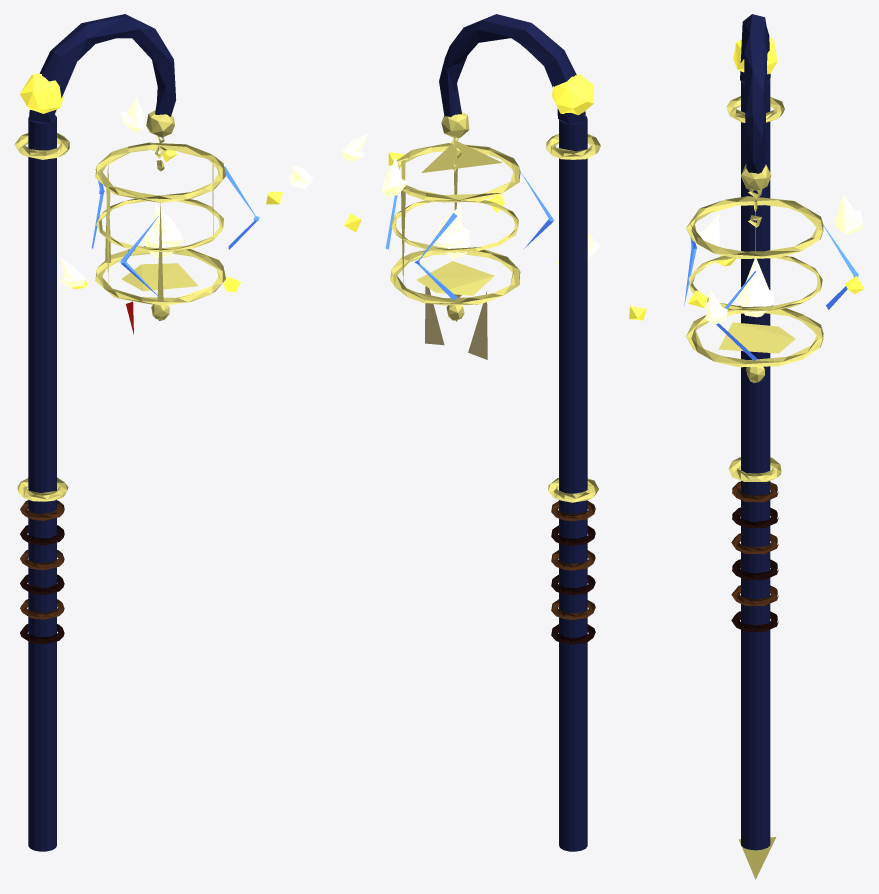
The model's file is lantern_8.glb.
3 views of the same model, side by side, from view 1: azimuth 30°, elevation 25°; view 2: azimuth 150°, elevation 25°; view 3: azimuth 270°, elevation 25° (orthographic). The views are drawn at different scales.
Visible parts, largest first — view 1: Staff__001, Staff__002, Lantern__021, Lantern__022, Lantern__025, Staff__013, Lantern__023, Flame__027, Staff__010, Staff__011; view 2: Staff__001, Staff__002, Lantern__022, Lantern__021, Lantern__025, Staff__013, Lantern__024, Lantern__023, Staff__010, Flame__027, Tags__029, Staff__011 (+3 smaller); view 3: Staff__001, Staff__002, Lantern__021, Lantern__022, Lantern__025, Lantern__023, Flame__027, Orbit__037, Staff__011, Staff__010, Staff__003, Staff__013 (+3 smaller).
Boxes of the visible parts, x1,y1,x2,y2 form: Staff__001: [28, 115, 56, 851]; Staff__002: [29, 14, 176, 122]; Lantern__021: [95, 142, 225, 202]; Lantern__022: [95, 246, 225, 305]; Lantern__025: [121, 263, 198, 291]; Staff__013: [20, 73, 63, 113]; Lantern__023: [96, 198, 223, 252]; Flame__027: [145, 203, 183, 246]; Staff__010: [14, 133, 69, 159]; Staff__011: [17, 477, 68, 501]; Staff__001: [559, 116, 587, 851]; Staff__002: [439, 14, 585, 124]; Lantern__022: [390, 249, 520, 305]; Lantern__021: [396, 143, 520, 202]; Lantern__025: [416, 261, 494, 295]; Staff__013: [552, 74, 593, 115]; Lantern__024: [421, 140, 502, 172]; Lantern__023: [391, 200, 518, 252]; Staff__010: [546, 134, 600, 159]; Flame__027: [432, 203, 471, 247]; Tags__029: [468, 291, 487, 359]; Staff__011: [548, 478, 598, 502]; Staff__001: [741, 78, 770, 850]; Staff__002: [740, 14, 770, 173]; Lantern__021: [686, 196, 823, 258]; Lantern__022: [686, 305, 823, 367]; Lantern__025: [718, 322, 795, 353]; Lantern__023: [688, 256, 822, 311]; Flame__027: [738, 258, 774, 306]; Orbit__037: [835, 194, 863, 235]; Staff__011: [728, 457, 781, 481]; Staff__010: [726, 96, 784, 122]; Staff__003: [741, 164, 771, 190]; Staff__013: [733, 37, 777, 74].
Bounding box in the file's own units: 0.4182 × 1.23 × 0.2964.
